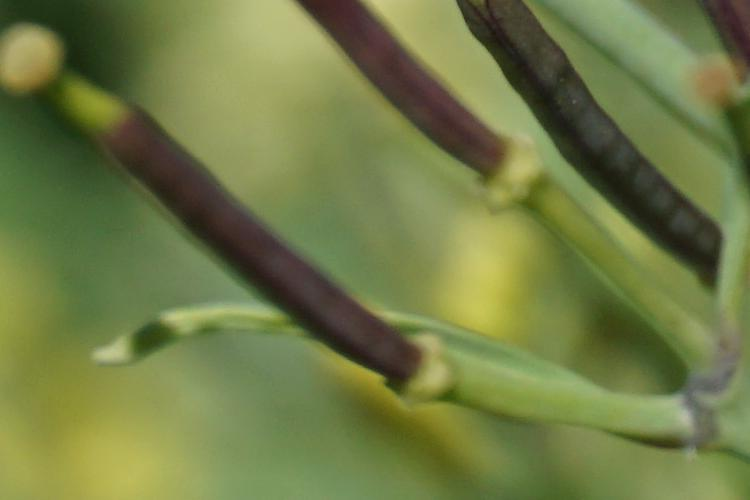pod: (41, 76, 442, 405), (302, 5, 541, 220)
